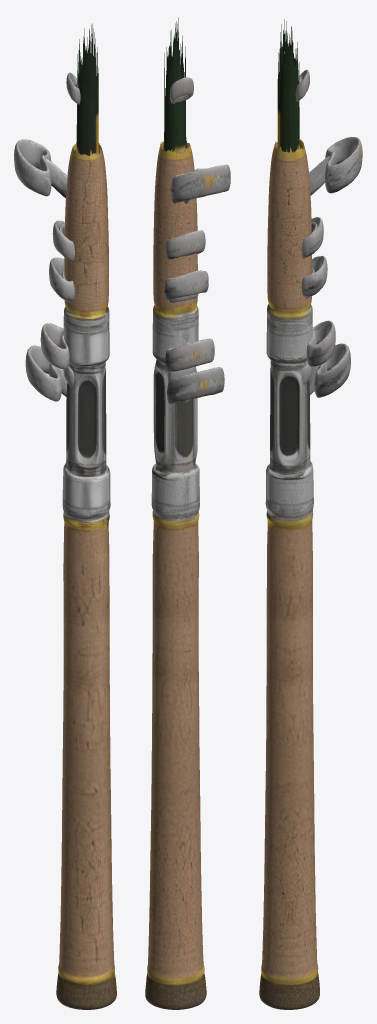
The model's file is feeder_ostoja.glb.
3 renders of one model, left to right at view 1: azimuth 90°, elevation 25°; view 2: azimuth 210°, elevation 25°; view 3: azimuth 270°, elevation 25°, orthographic.
Visible parts, largest first — view 1: Handle, Seg0, Seg2, Seg3, Seg4, Seg5, Seg9, Seg1; view 2: Handle, Seg0, Seg2, Seg3, Seg4, Seg5, Seg9; view 3: Handle, Seg0, Seg2, Seg3, Seg4, Seg5, Seg1, Seg9.
Boxes of the visible parts, x1=… form: Handle: x1=56, y1=142, x2=116, y2=1009; Seg0: x1=14, y1=39, x2=98, y2=198; Seg2: x1=25, y1=25, x2=94, y2=401; Seg3: x1=40, y1=28, x2=94, y2=369; Seg4: x1=49, y1=28, x2=89, y2=301; Seg5: x1=52, y1=30, x2=91, y2=261; Seg9: x1=66, y1=72, x2=80, y2=469; Seg1: x1=80, y1=23, x2=97, y2=108; Handle: x1=145, y1=140, x2=206, y2=1009; Seg0: x1=164, y1=35, x2=230, y2=203; Seg2: x1=167, y1=17, x2=224, y2=404; Seg3: x1=165, y1=31, x2=214, y2=371; Seg4: x1=164, y1=31, x2=208, y2=299; Seg5: x1=165, y1=21, x2=205, y2=259; Seg9: x1=169, y1=77, x2=194, y2=472; Handle: x1=259, y1=139, x2=319, y2=1009; Seg0: x1=277, y1=42, x2=362, y2=195; Seg2: x1=281, y1=19, x2=350, y2=397; Seg3: x1=281, y1=30, x2=335, y2=366; Seg4: x1=285, y1=31, x2=327, y2=296; Seg5: x1=284, y1=21, x2=323, y2=257; Seg1: x1=279, y1=30, x2=295, y2=102; Seg9: x1=295, y1=69, x2=310, y2=467.
Size of the model in its own units: 0.0397 by 0.6688 by 0.0635.
Materials: 1 (1 with a texture image).
